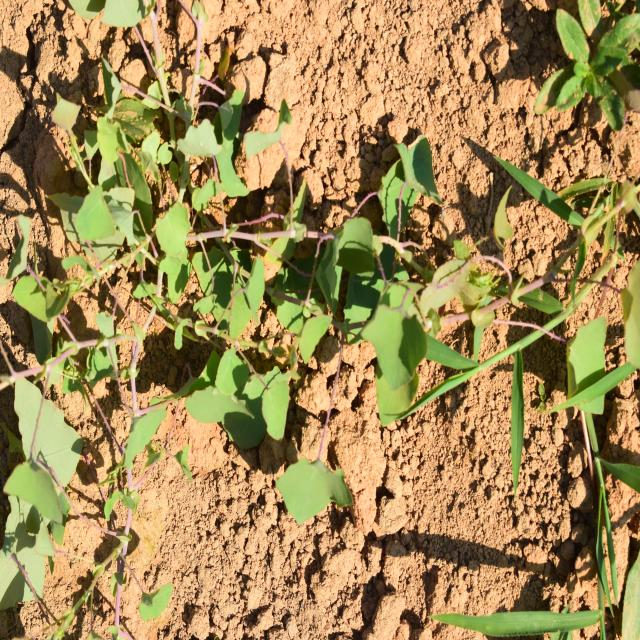Asiatic_Smartweed: (182, 310, 368, 530), (308, 123, 442, 397), (127, 107, 308, 275), (0, 329, 110, 603)
